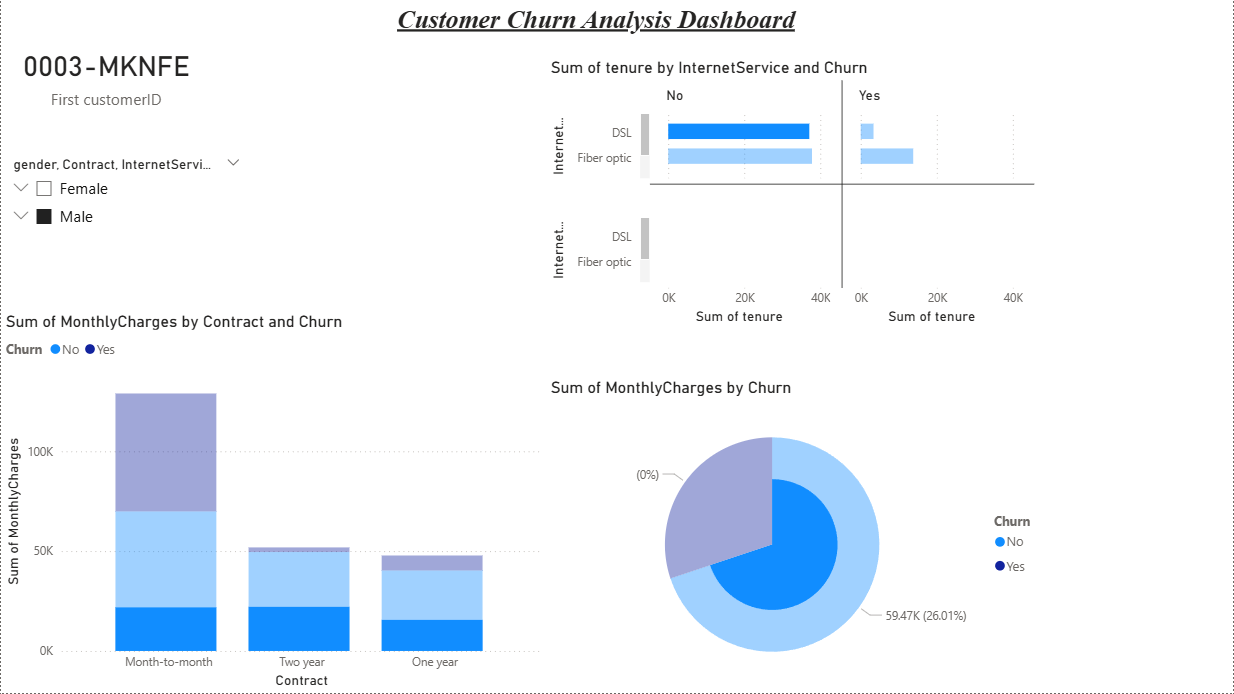

Layout of this report page (visuals, bound fields, positions):
{"tool":"powerbi","page":{"name":"Customer Churn Dashboard","canvas":[1280,720],"ordinal":0},"visuals":[{"type":"card","fields":{"Values":["Min(WA_Fn-UseC_-Telco-Customer-Churn.customerID)"]},"box":[0,0,219.2,156.4],"z":0},{"type":"pieChart","fields":{"Category":["WA_Fn-UseC_-Telco-Customer-Churn.Churn"],"Y":["Sum(WA_Fn-UseC_-Telco-Customer-Churn.MonthlyCharges)"]},"box":[566.7,391.7,528.3,328.3],"z":1000},{"type":"columnChart","fields":{"Category":["WA_Fn-UseC_-Telco-Customer-Churn.Contract"],"Series":["WA_Fn-UseC_-Telco-Customer-Churn.Churn"],"Y":["Sum(WA_Fn-UseC_-Telco-Customer-Churn.MonthlyCharges)"]},"box":[0,323.3,566.7,396.7],"z":2000},{"type":"clusteredBarChart","fields":{"Category":["WA_Fn-UseC_-Telco-Customer-Churn.InternetService"],"Rows":["WA_Fn-UseC_-Telco-Customer-Churn.Churn"],"Y":["Sum(WA_Fn-UseC_-Telco-Customer-Churn.tenure)"]},"box":[566.7,60,513.3,283.3],"z":3000},{"type":"slicer","fields":{"Values":["WA_Fn-UseC_-Telco-Customer-Churn.gender","WA_Fn-UseC_-Telco-Customer-Churn.Contract","WA_Fn-UseC_-Telco-Customer-Churn.InternetService"]},"box":[0,156.7,260,158.3],"z":3001},{"type":"textbox","box":[406.7,0,456.7,60],"z":3002}]}

Visuals, with their boxes in screenshot pixels (x1, y1, x2, y2), scaled from the page's 1280x720 canvas onto the 1234x694 screenshot:
card - Min(WA_Fn-UseC_-Telco-Customer-Churn.customerID): <box>0,0,211,151</box>
pieChart - WA_Fn-UseC_-Telco-Customer-Churn.Churn x Sum(WA_Fn-UseC_-Telco-Customer-Churn.MonthlyCharges): <box>546,378,1056,693</box>
columnChart - WA_Fn-UseC_-Telco-Customer-Churn.Contract x WA_Fn-UseC_-Telco-Customer-Churn.Churn: <box>0,312,546,693</box>
clusteredBarChart - WA_Fn-UseC_-Telco-Customer-Churn.InternetService x WA_Fn-UseC_-Telco-Customer-Churn.Churn: <box>546,58,1041,331</box>
slicer - WA_Fn-UseC_-Telco-Customer-Churn.gender x WA_Fn-UseC_-Telco-Customer-Churn.Contract: <box>0,151,251,304</box>
textbox: <box>392,0,832,58</box>
